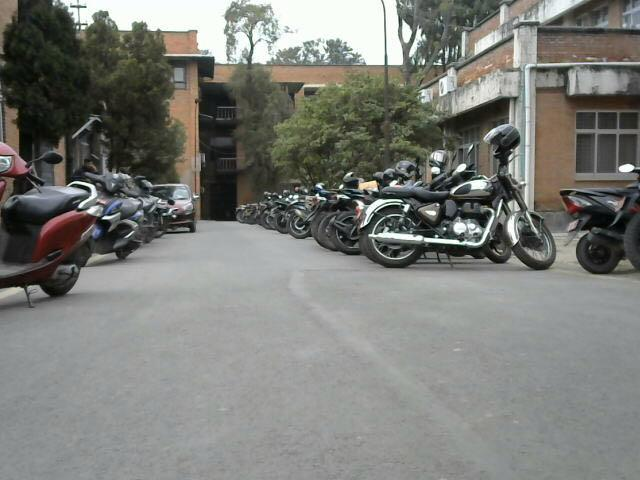Building: (462, 0, 638, 189)
Motorcycle: (235, 141, 606, 270), (4, 139, 99, 324)
Road: (0, 222, 640, 480), (46, 227, 640, 480)
Tree: (14, 0, 230, 174)
